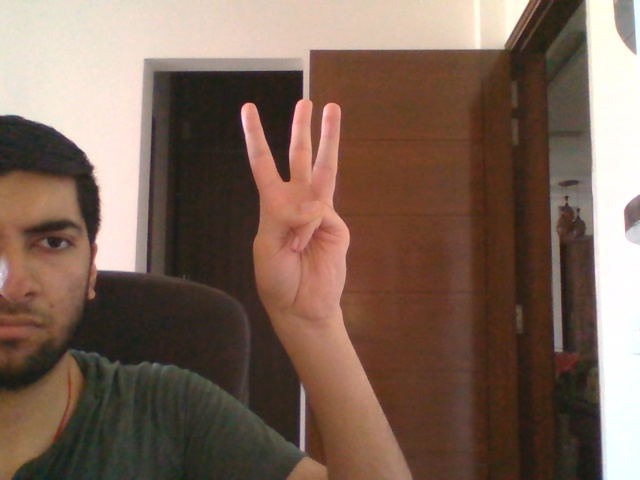LetterW: (238, 96, 354, 322)
